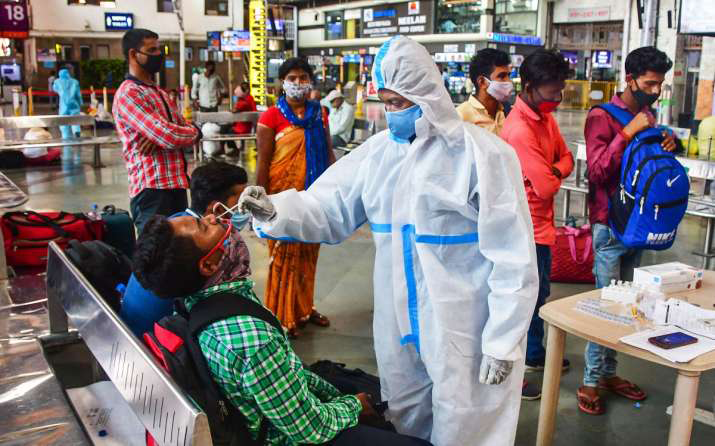Coverall: (352, 37, 529, 446)
Gloves: (237, 183, 280, 224), (476, 347, 515, 391)
with_mask: (382, 95, 424, 141), (483, 69, 515, 103), (281, 73, 312, 103), (138, 45, 162, 74)
